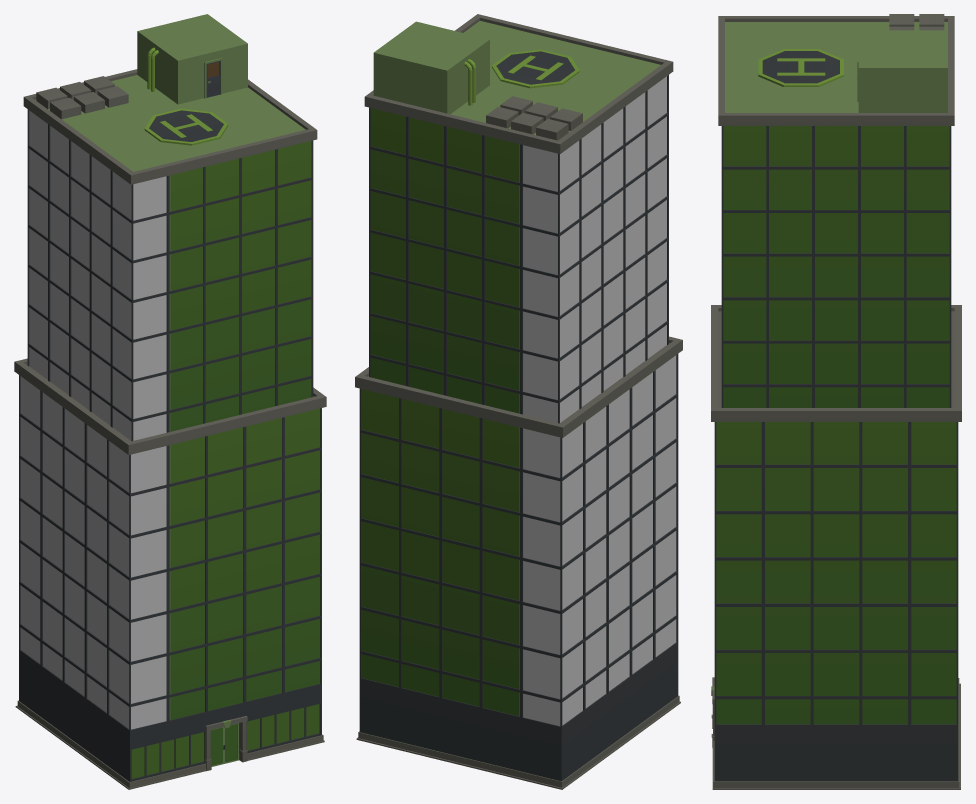
The model's file is House_45.fbx.
The picture shows the model from 3 angles, left to right: view 1: azimuth 30°, elevation 25°; view 2: azimuth 150°, elevation 25°; view 3: azimuth 270°, elevation 25°; orthographic projection. The views are drawn at different scales.
Parts seen in each view (by area): view 1: House_45; view 2: House_45; view 3: House_45.
Part boxes in pixels (x1,y1,x2,y2): House_45: (14,14,326,789); House_45: (355,14,682,789); House_45: (711,14,961,789).
Size of the model in its own units: 11.98 by 37.76 by 11.98.
